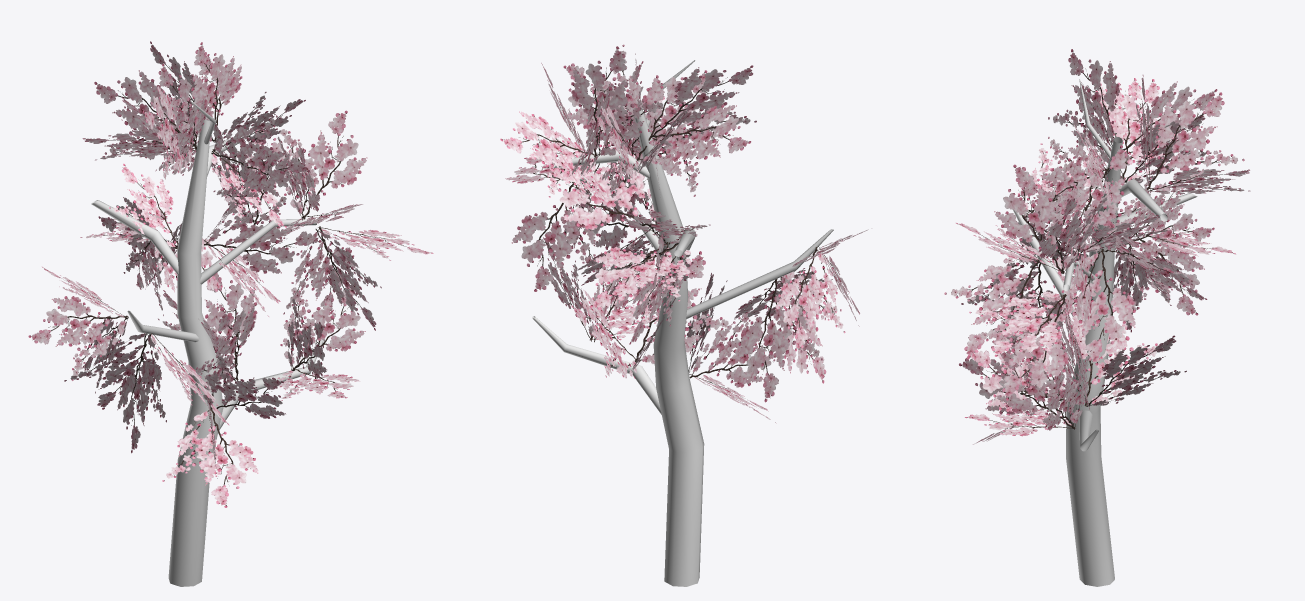
The model's file is SakuraTree1-1.fbx.
3 renders of one model, left to right at view 1: azimuth 30°, elevation 25°; view 2: azimuth 150°, elevation 25°; view 3: azimuth 270°, elevation 25°, orthographic. The views are drawn at different scales.
Parts seen in each view (by area): view 1: SakuraTree1-1; view 2: SakuraTree1-1; view 3: SakuraTree1-1.
Boxes of the visible parts, box(x1,y1,x2,y2) form: SakuraTree1-1: box(28, 41, 433, 586); SakuraTree1-1: box(500, 44, 868, 586); SakuraTree1-1: box(944, 49, 1250, 586).
Bounding box in the file's own units: 595 × 749 × 472.
